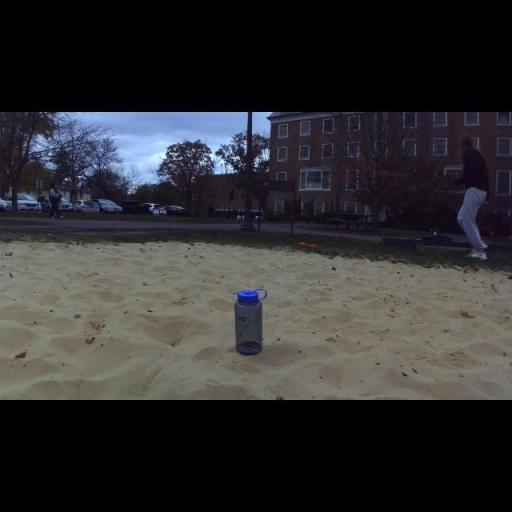bottle: (234, 289, 269, 357)
